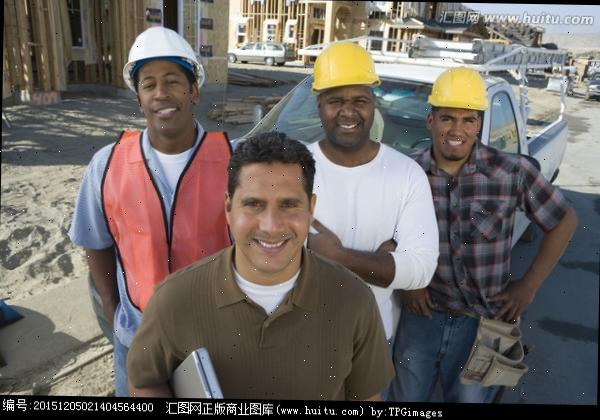helmet: (306, 38, 382, 94), (117, 26, 200, 68), (427, 66, 495, 115)
no_wear: (152, 262, 364, 402), (418, 154, 526, 326), (311, 145, 428, 258)
wear: (88, 132, 224, 266)
